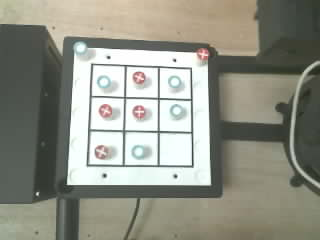blue circle: (132, 145, 145, 160), (168, 76, 182, 89), (73, 41, 87, 54), (170, 104, 183, 118), (97, 75, 110, 88)
board: (67, 41, 211, 185)
cells: (125, 132, 157, 165), (125, 99, 158, 131), (89, 132, 122, 164), (91, 65, 124, 96), (90, 98, 123, 129), (160, 133, 191, 165), (159, 100, 191, 131), (159, 68, 190, 98), (126, 67, 157, 97)
grid: (87, 64, 193, 167)
red cross: (95, 145, 109, 159), (132, 105, 145, 118), (99, 104, 111, 117), (133, 71, 145, 84), (197, 48, 209, 60)
